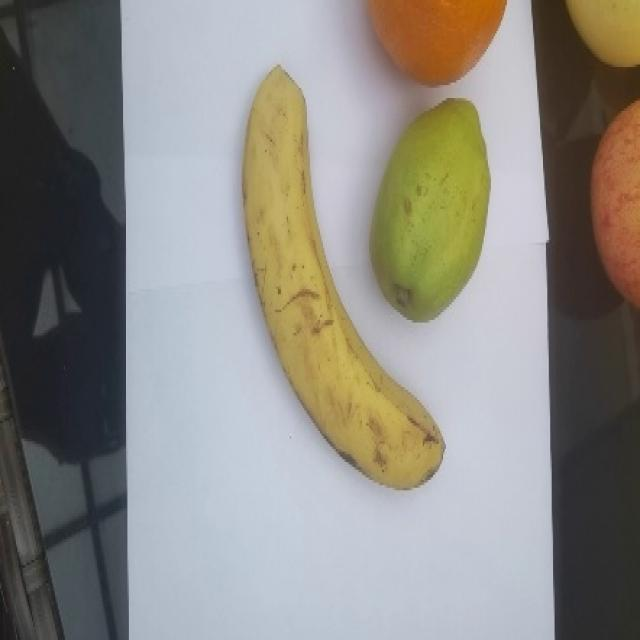Apple: (589, 98, 639, 308)
Banana: (241, 63, 446, 490)
Orange: (367, 0, 507, 87)
